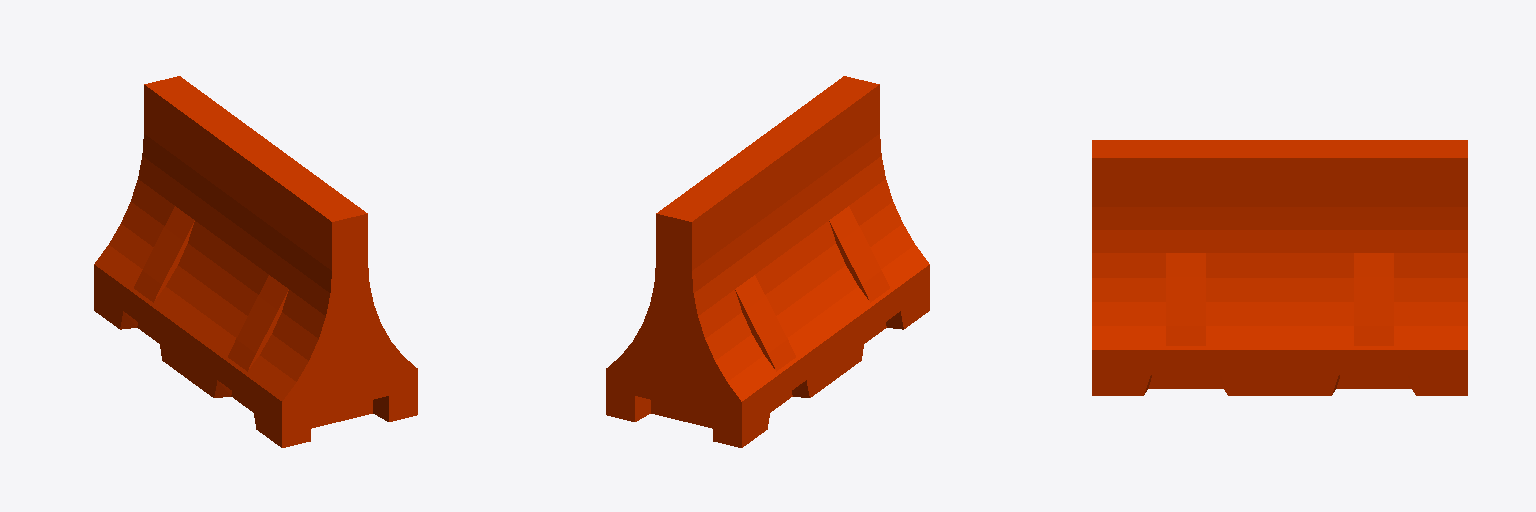
The picture shows the model from 3 angles: view 1: azimuth 30°, elevation 25°; view 2: azimuth 150°, elevation 25°; view 3: azimuth 270°, elevation 25°; orthographic projection.
Visible parts, largest first — view 1: road_block_red; view 2: road_block_red; view 3: road_block_red.
Boxes of the visible parts, box(x1,y1,x2,y2) form: road_block_red: box(94, 76, 417, 447); road_block_red: box(606, 76, 929, 447); road_block_red: box(1092, 140, 1467, 395).
Bounding box in the file's own units: 50 × 75.32 × 120.
Materials: 1 (1 with a texture image).